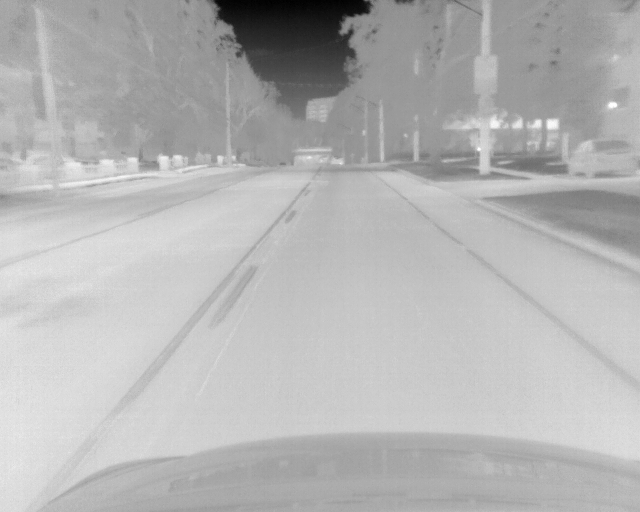car: (565, 138, 640, 180), (329, 155, 344, 165)
